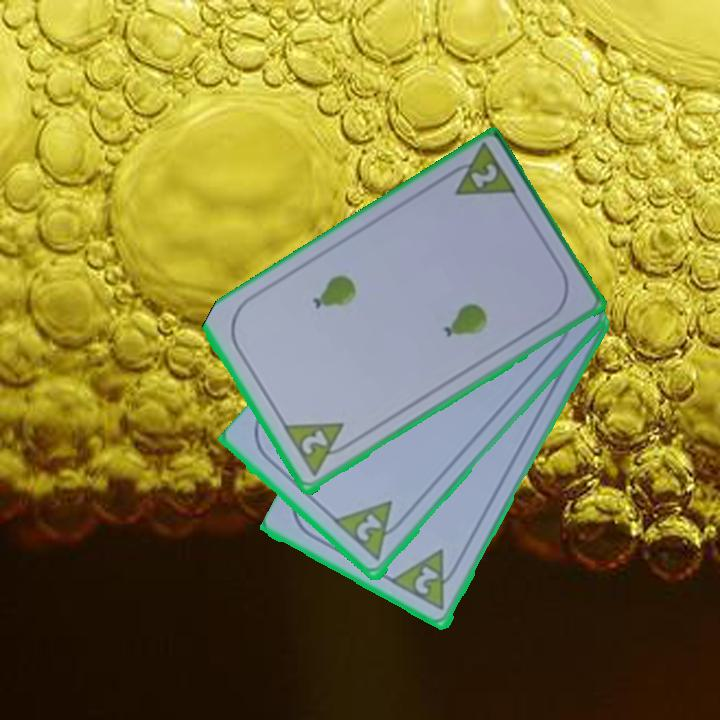2p: (332, 497, 410, 565), (389, 546, 465, 615), (280, 419, 358, 481), (439, 141, 520, 200)
